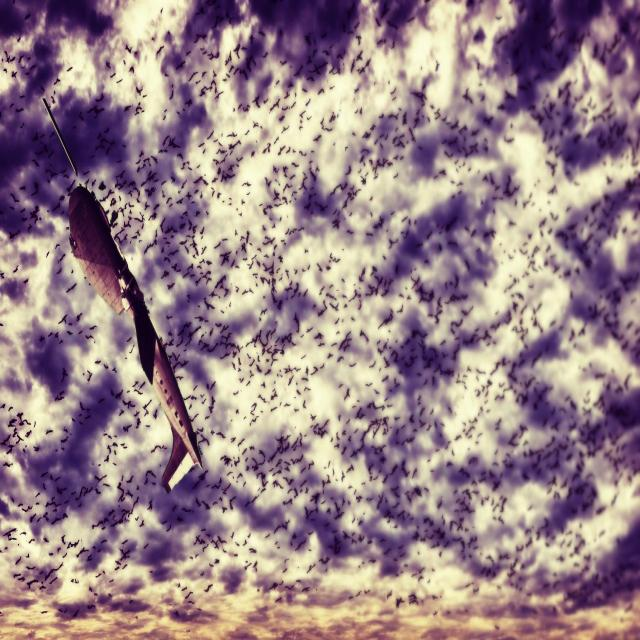airplane: (41, 96, 203, 494)
